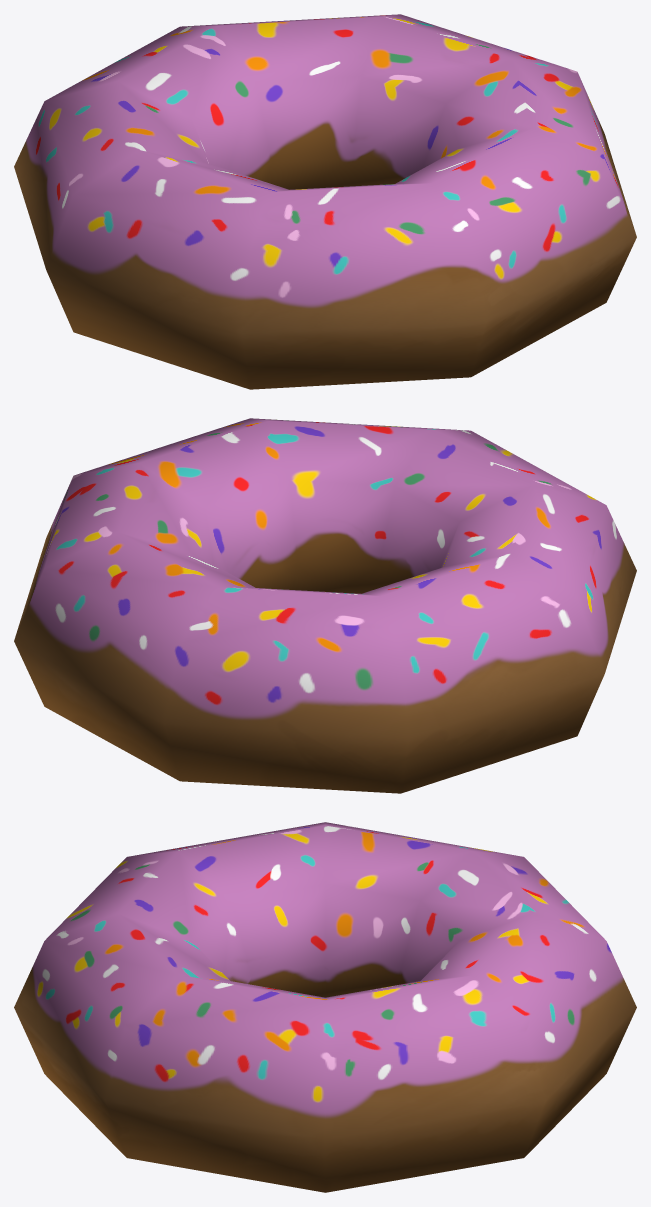
File: Strawberry_Donu.fbx
The picture shows the model from 3 angles, top to bottom: view 1: azimuth 30°, elevation 25°; view 2: azimuth 150°, elevation 25°; view 3: azimuth 270°, elevation 25°; orthographic projection. The views are drawn at different scales.
Visible parts, largest first — view 1: Donut_Base7; view 2: Donut_Base7; view 3: Donut_Base7.
Boxes of the visible parts, <box> form: Donut_Base7: <box>14,14,636,389</box>; Donut_Base7: <box>14,418,636,793</box>; Donut_Base7: <box>14,822,636,1192</box>.
Bounding box in the file's own units: 3 × 1 × 3.
Materials: 1 (1 with a texture image).
